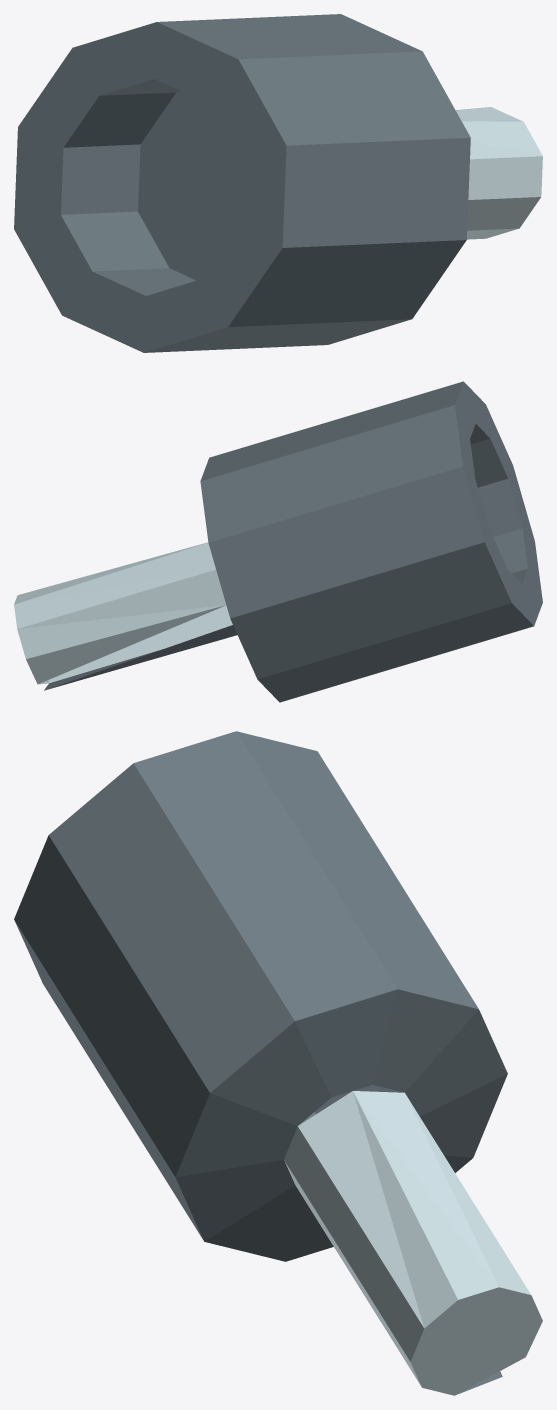
Rendered from half_dumbell.glb.
The picture shows the model from 3 angles, top to bottom: view 1: azimuth 30°, elevation 25°; view 2: azimuth 150°, elevation 25°; view 3: azimuth 270°, elevation 25°; orthographic projection. The views are drawn at different scales.
Parts seen in each view (by area): view 1: half_dumbell; view 2: half_dumbell; view 3: half_dumbell.
Boxes of the visible parts, left/top/right/bottom form: half_dumbell: left=14, top=14, right=542, bottom=352; half_dumbell: left=14, top=381, right=542, bottom=702; half_dumbell: left=14, top=731, right=542, bottom=1395.
Bounding box in the file's own units: 0.2898 × 0.188 × 0.2076.
